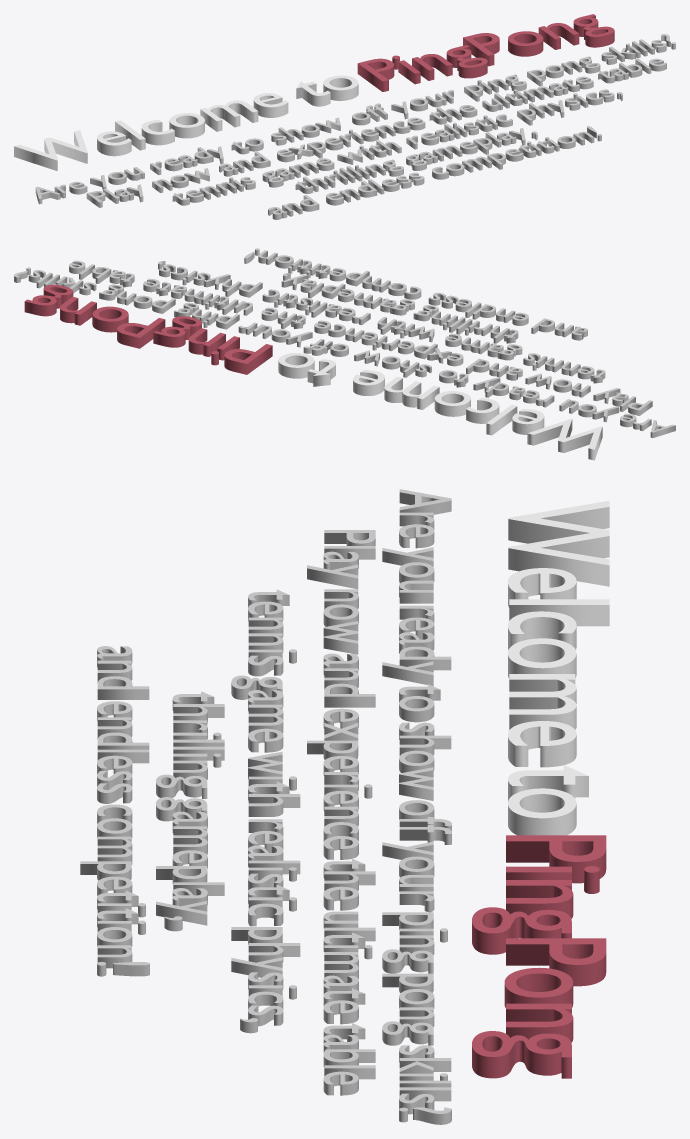
The model's file is Welcome_text.glb.
The picture shows the model from 3 angles, top to bottom: view 1: azimuth 30°, elevation 25°; view 2: azimuth 150°, elevation 25°; view 3: azimuth 270°, elevation 25°; orthographic projection. The views are drawn at different scales.
Visible parts, largest first — view 1: Text.002, Text.001, Text.003; view 2: Text.002, Text.001, Text.003; view 3: Text.002, Text.001, Text.003.
Boxes of the visible parts, left/top/right/bottom form: Text.002: left=35, top=34, right=675, bottom=219; Text.001: left=14, top=75, right=358, bottom=170; Text.003: left=357, top=14, right=614, bottom=91; Text.002: left=14, top=248, right=675, bottom=437; Text.001: left=278, top=353, right=602, bottom=460; Text.003: left=24, top=284, right=272, bottom=374; Text.002: left=80, top=489, right=451, bottom=1124; Text.001: left=508, top=500, right=609, bottom=835; Text.003: left=472, top=835, right=606, bottom=1078.
Bounding box in the file's own units: 4.82 × 0.0944 × 1.73.
